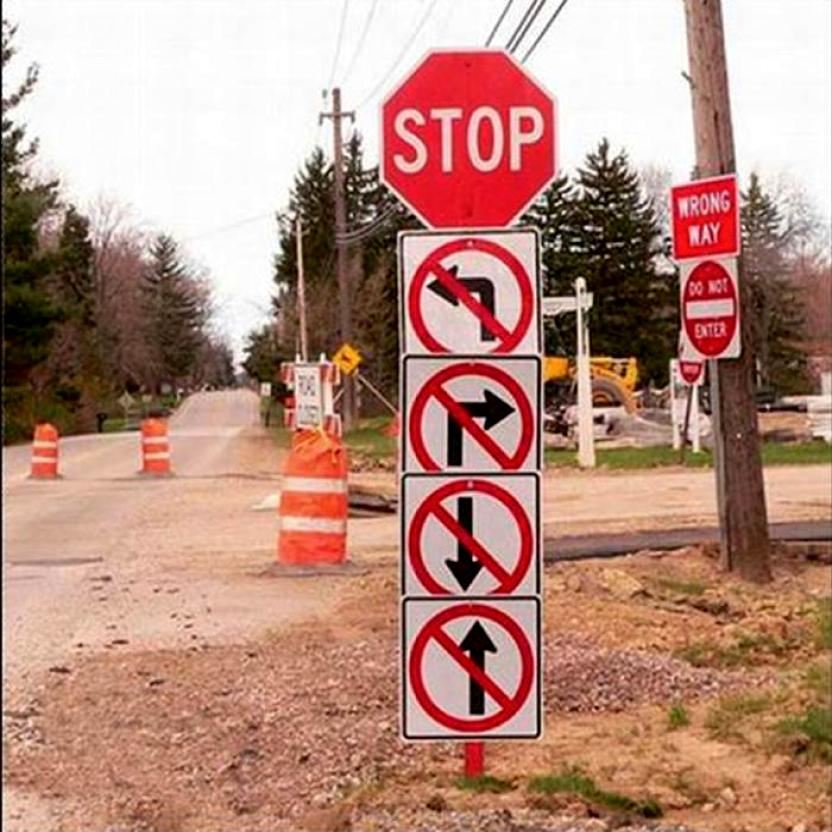Pole: (706, 360, 731, 574)
Sign: (380, 45, 559, 231)
